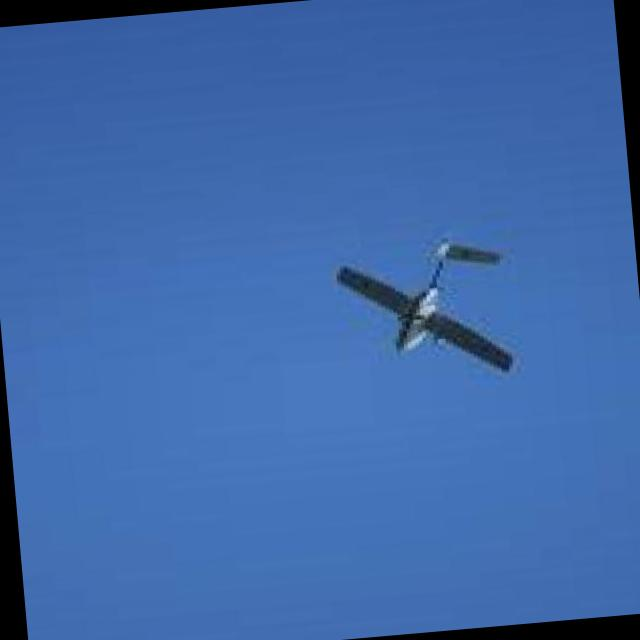UAV: (357, 202, 522, 392)
